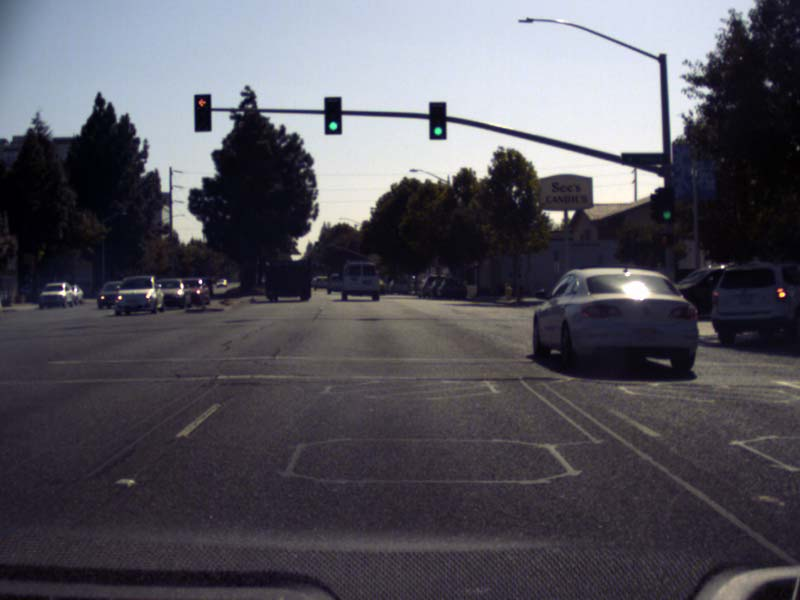Green: (428, 101, 446, 140), (324, 96, 341, 134), (658, 188, 674, 224)
Red: (194, 94, 210, 131)
